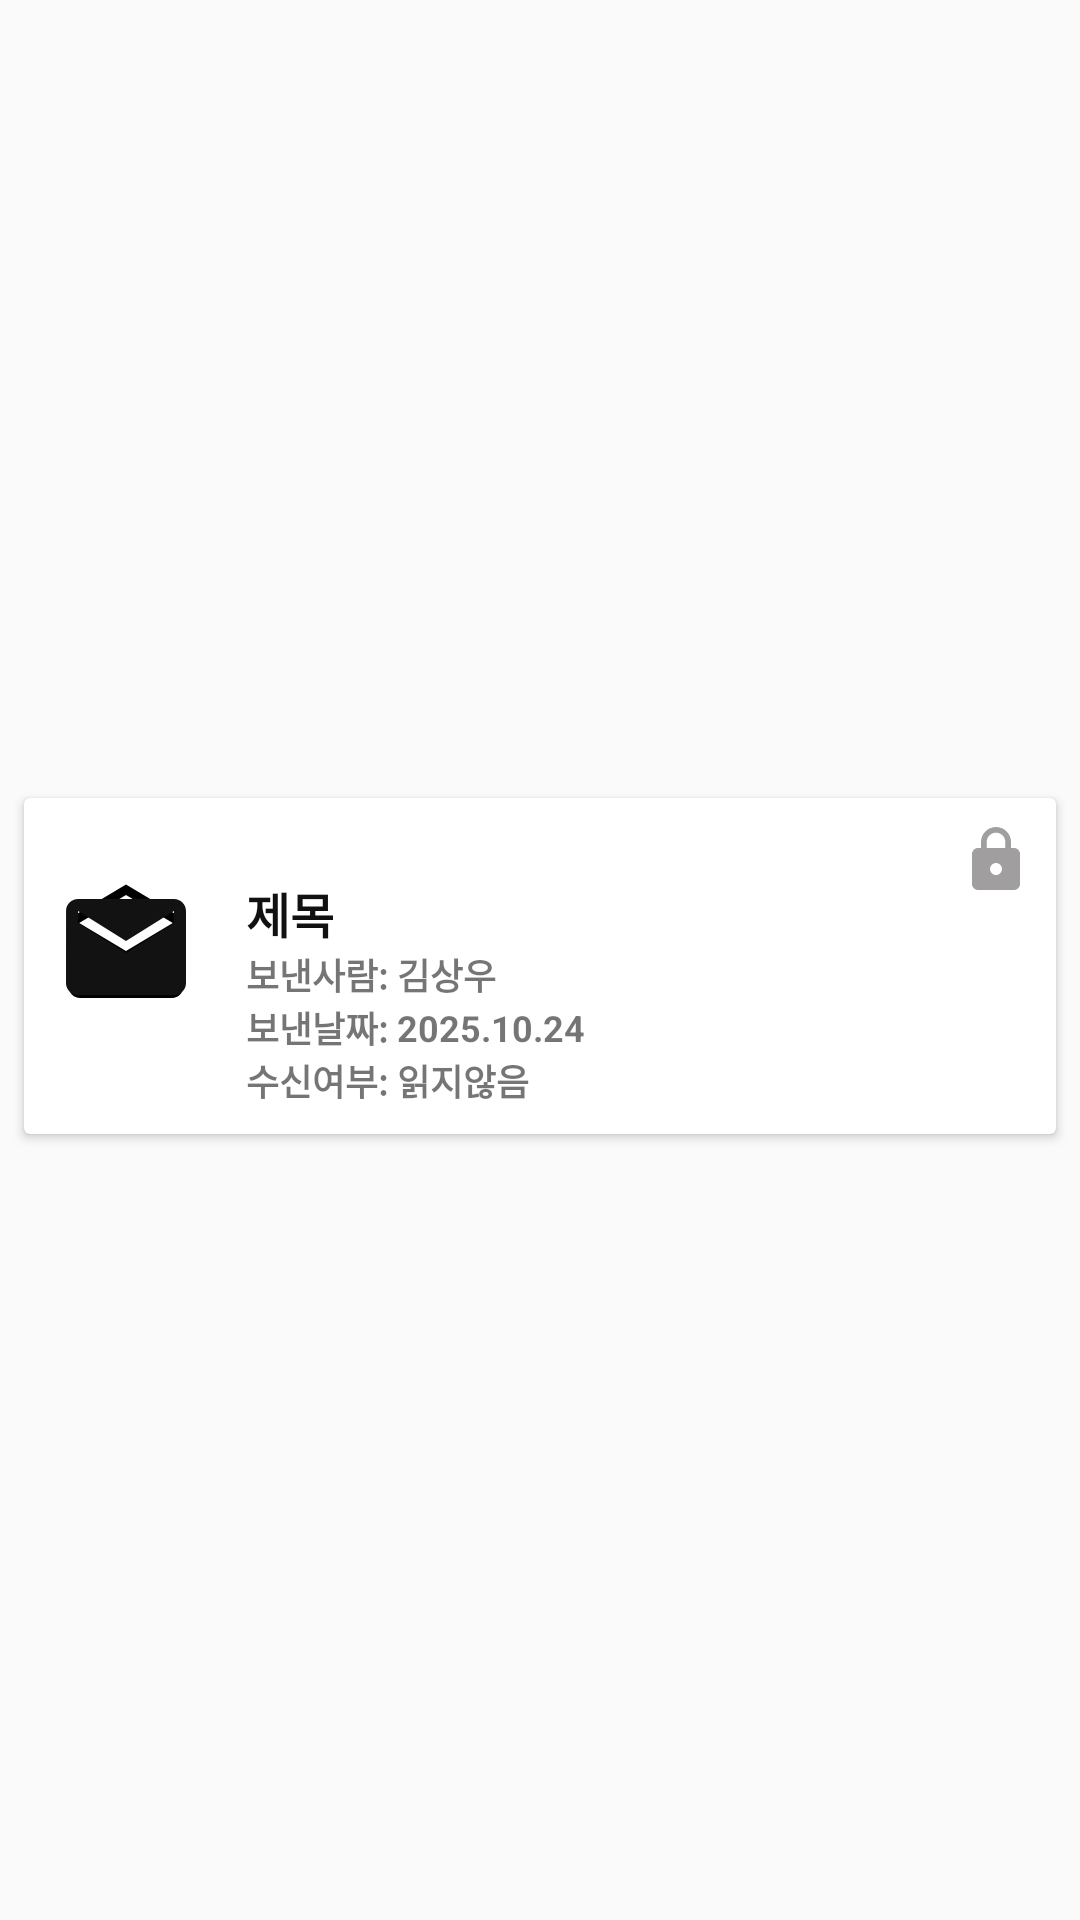

Icons on this 1080w x 1920h Android screen, each with its box as Rect(x1, y1, x2, y2):
lock: Rect(972, 827, 1020, 890)
